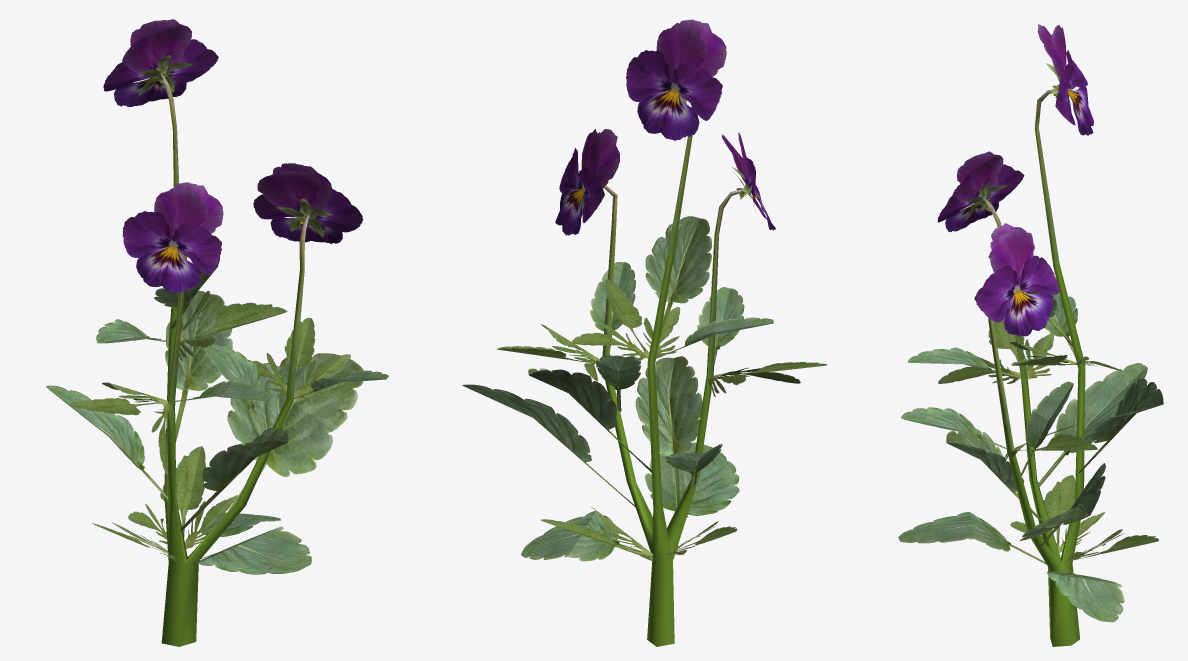
The model's file is Viola2G.fbx.
3 renders of one model, left to right at view 1: azimuth 30°, elevation 25°; view 2: azimuth 150°, elevation 25°; view 3: azimuth 270°, elevation 25°, orthographic. The views are drawn at different scales.
Parts seen in each view (by area): view 1: Viola2G_LOD0; view 2: Viola2G_LOD0; view 3: Viola2G_LOD0.
Boxes of the visible parts, left/top/right/bottom form: Viola2G_LOD0: left=46, top=19, right=388, bottom=646; Viola2G_LOD0: left=462, top=19, right=827, bottom=646; Viola2G_LOD0: left=898, top=24, right=1163, bottom=646.
Size of what is drawn, in the model's own units: 43.89 by 74.19 by 34.62.
